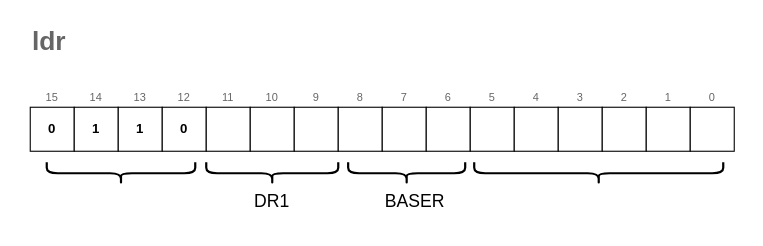
This 763x246 diagram has some shape labels left out. The shapes that lost their labels are listed below. From the top down, each one's centre as x and y in pixels, then its label:
point 120,173: OpCode
point 598,173: OFFSET6
